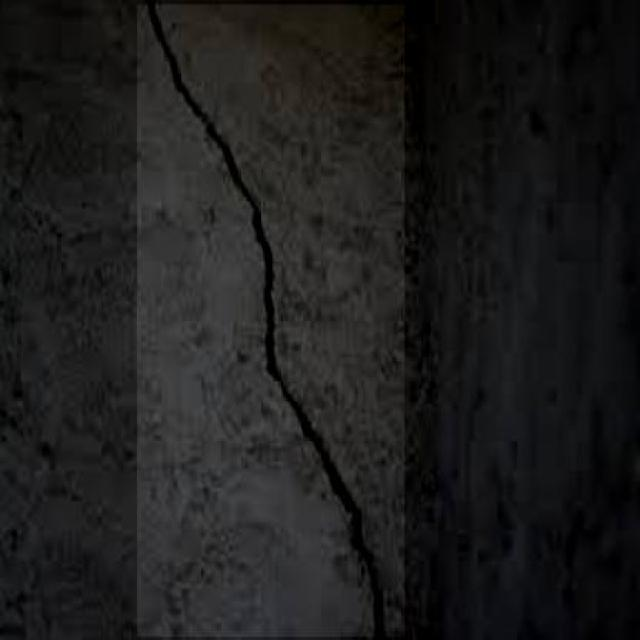Crack: (132, 1, 411, 640)
